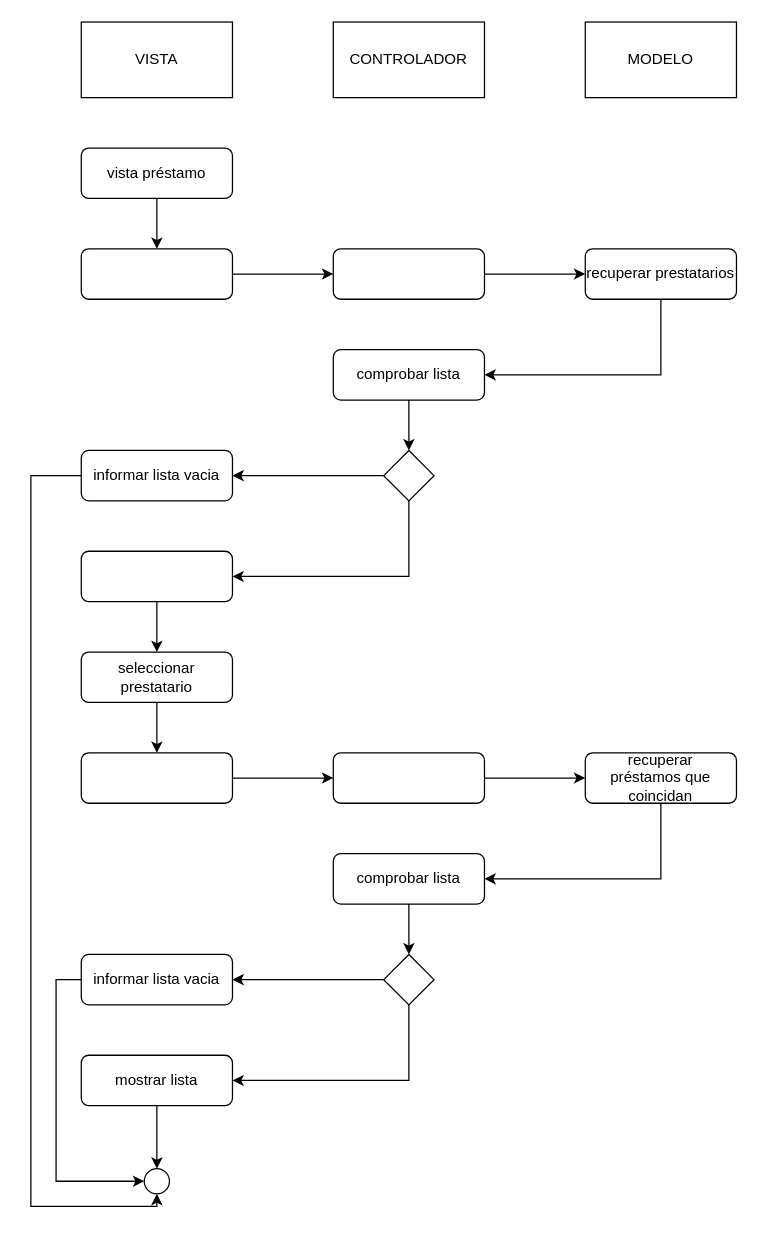
This 759x1239 diagram has some shape labels left out. Each missing label, with the box of its shape:
confirmar formulario: (80, 752, 232, 803)
listar préstamo por prestatario: (80, 248, 232, 299)
mostrar formulario: (80, 550, 232, 602)
recuperar lista prestatarios: (332, 248, 484, 299)
recuperar lista préstamos: (332, 752, 484, 803)
